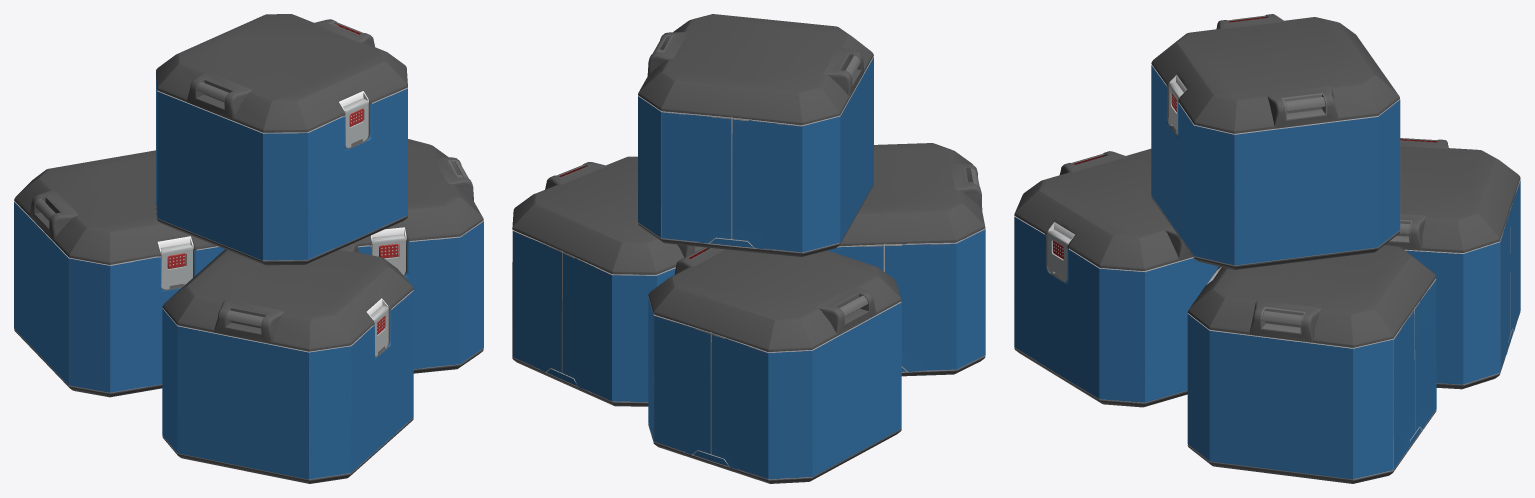
File: sci-fi-crate-pile.glb
The picture shows the model from 3 angles, left to right: view 1: azimuth 30°, elevation 25°; view 2: azimuth 150°, elevation 25°; view 3: azimuth 270°, elevation 25°; orthographic projection. The views are drawn at different scales.
Visible parts, largest first — view 1: Cube (×4); view 2: Cube (×2); view 3: Cube (×3).
Boxes of the visible parts, left/top/right/bottom form: Cube (×4): left=14, top=14, right=483, bottom=483; Cube (×2): left=512, top=14, right=985, bottom=483; Cube (×3): left=1014, top=14, right=1520, bottom=483.
Size of the model in its own units: 382 by 300 by 423.
Materials: 4 (4 with a texture image).
